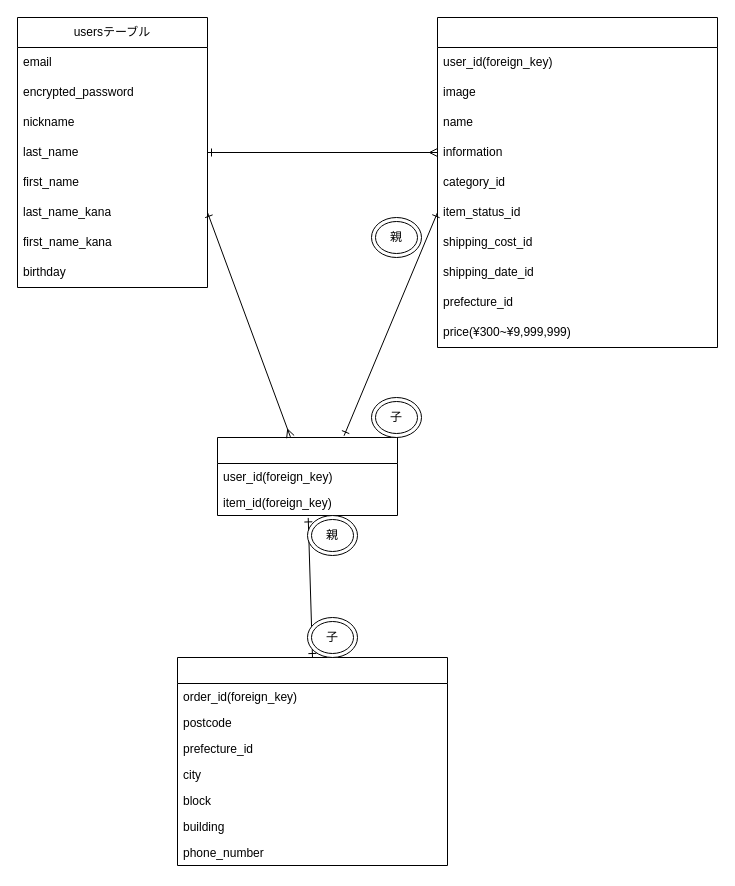
This 735x886 diagram has some shape labels left out. Here are the shapes that lost their labels. From the top down, the box of each, then its label:
(436, 16, 718, 348): itemsテーブル
(216, 436, 398, 516): ordersテーブル
(176, 656, 448, 866): destinationsテーブル
